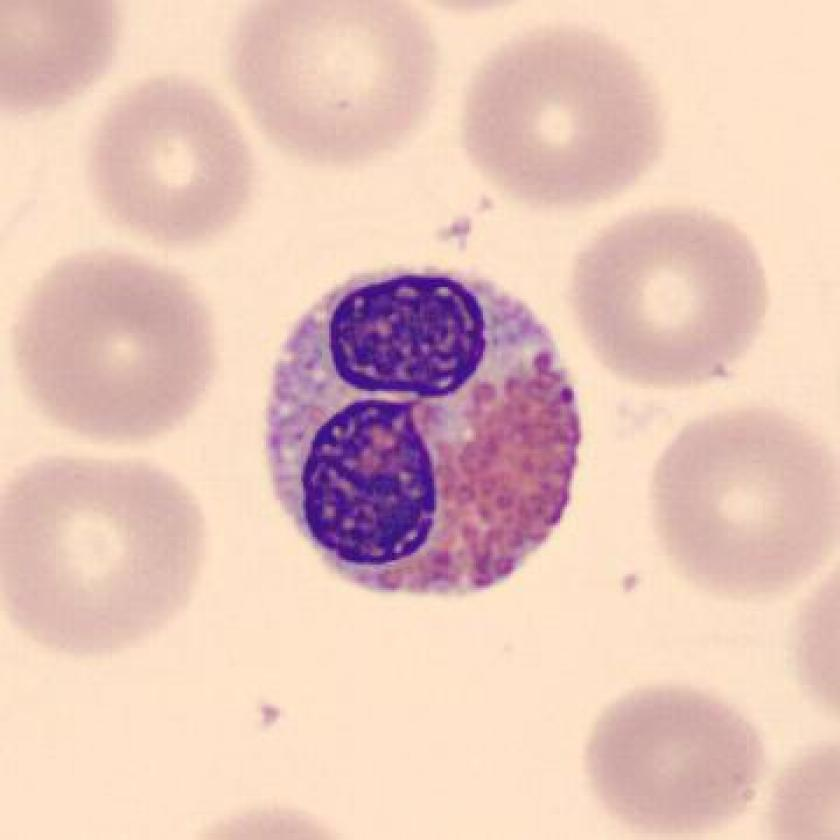eosinophil: (253, 253, 594, 617)
